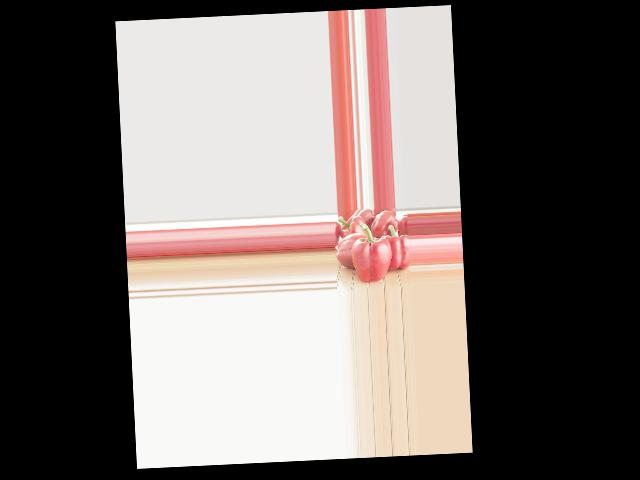bell_pepper: (336, 214, 366, 240)
